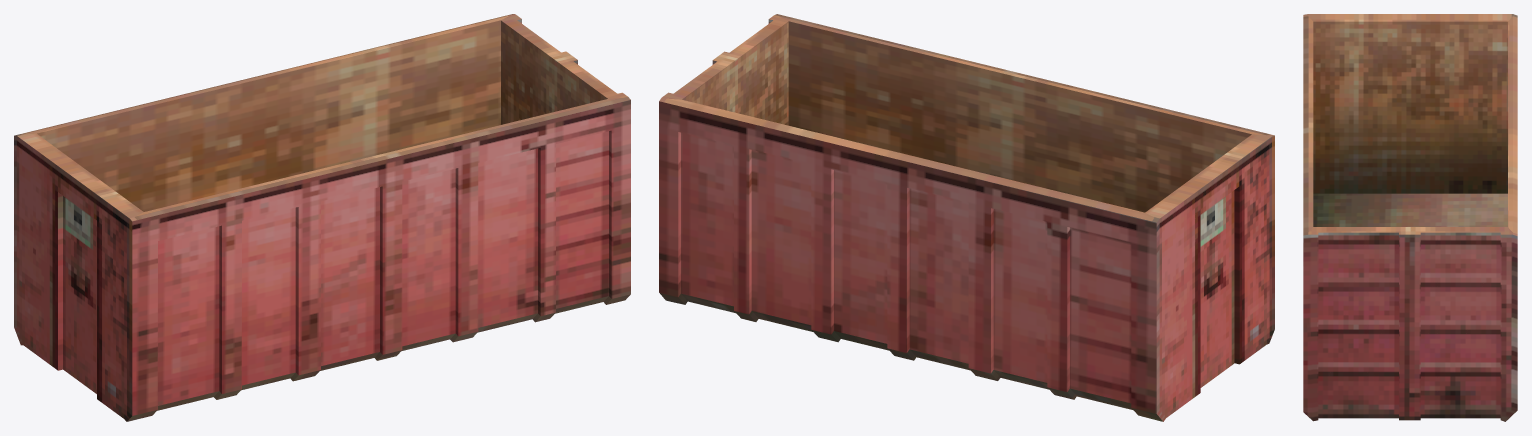
File: redDumpster.glb
The picture shows the model from 3 angles, left to right: view 1: azimuth 30°, elevation 25°; view 2: azimuth 150°, elevation 25°; view 3: azimuth 270°, elevation 25°; orthographic projection. The views are drawn at different scales.
Parts seen in each view (by area): view 1: Cube; view 2: Cube; view 3: Cube.
Boxes of the visible parts, x1,y1,x2,y2 form: Cube: (14, 14, 630, 421); Cube: (659, 14, 1274, 421); Cube: (1303, 14, 1517, 421).
Size of the model in its own units: 5.1 by 2.02 by 2.1.
1 material, 1 textured.
